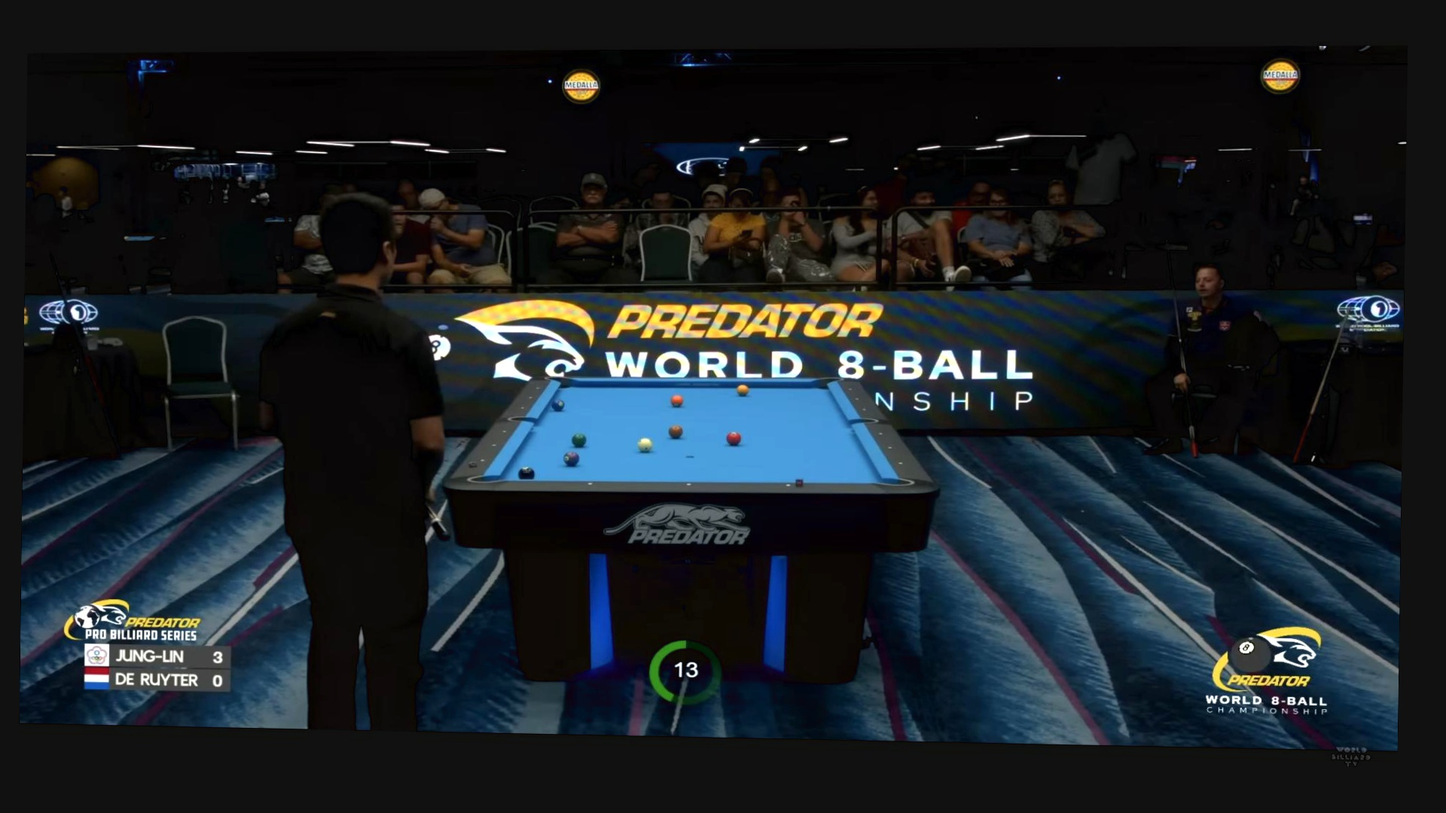Black: (887, 445, 893, 450), (686, 482, 691, 487), (898, 461, 903, 466), (878, 431, 883, 436), (786, 483, 791, 487), (587, 482, 592, 486), (481, 459, 485, 463), (492, 443, 496, 447), (520, 406, 524, 410), (529, 395, 533, 399), (536, 386, 540, 390), (862, 408, 866, 411), (855, 398, 859, 401), (848, 388, 852, 391), (502, 430, 506, 433), (626, 376, 629, 379), (692, 376, 695, 379)
Cue: (563, 451, 580, 466), (571, 432, 587, 447), (726, 431, 742, 446), (668, 424, 683, 438), (551, 399, 565, 411), (737, 384, 749, 396), (671, 395, 683, 407)
Solid: (518, 467, 535, 480)
Stripe: (637, 437, 653, 452)
